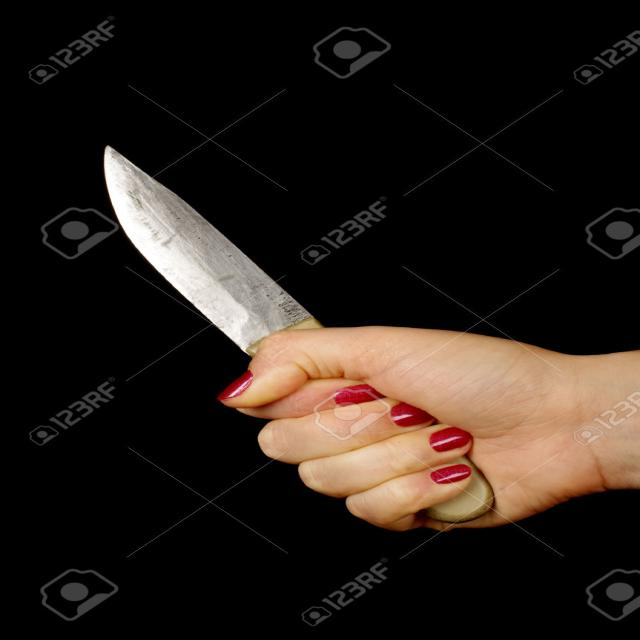knife: (96, 144, 508, 522)
